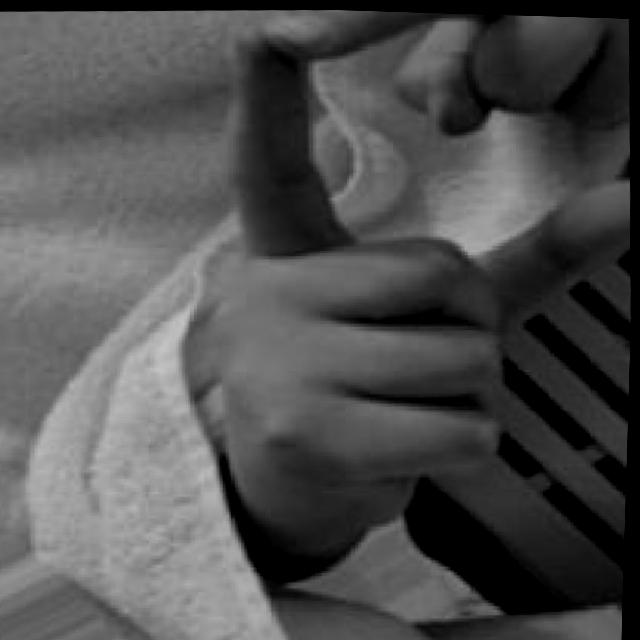J: (180, 6, 640, 592)
